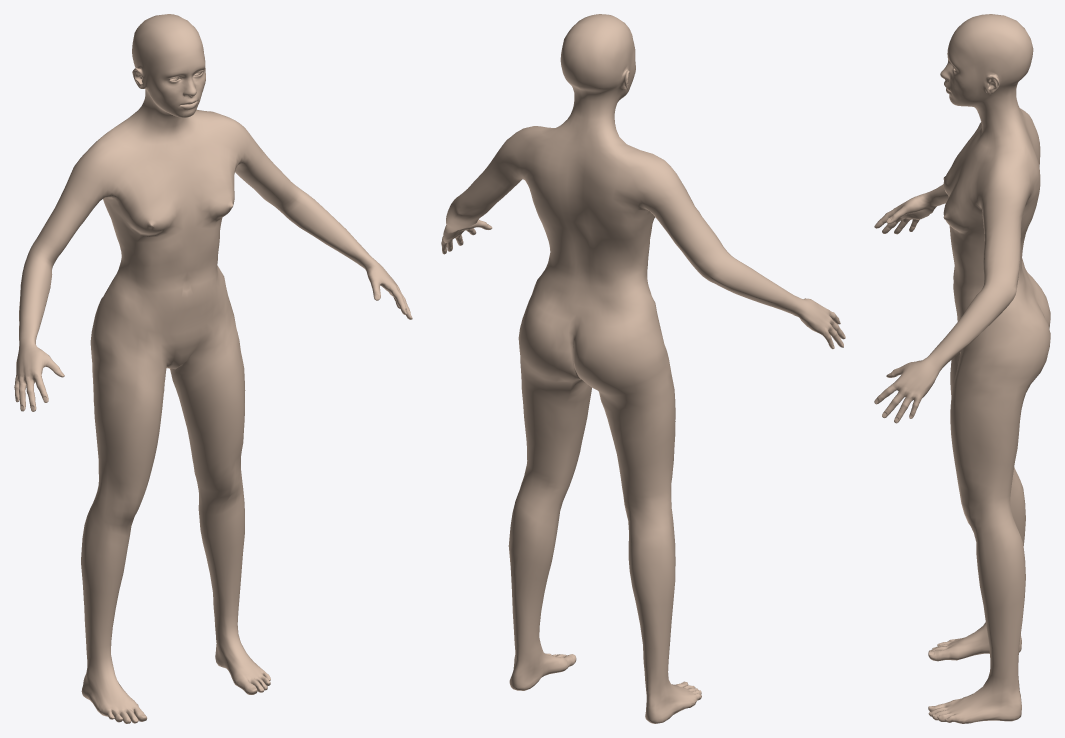
3 renders of one model, left to right at view 1: azimuth 30°, elevation 25°; view 2: azimuth 150°, elevation 25°; view 3: azimuth 270°, elevation 25°, orthographic.
Visible parts, largest first — view 1: exportsMesh; view 2: exportsMesh; view 3: exportsMesh.
Part boxes in pixels (x1=…): exportsMesh: x1=14, y1=14, x2=412, y2=723; exportsMesh: x1=441, y1=14, x2=845, y2=723; exportsMesh: x1=874, y1=14, x2=1050, y2=723.
Size of the model in its own units: 988 by 1621 by 387.
